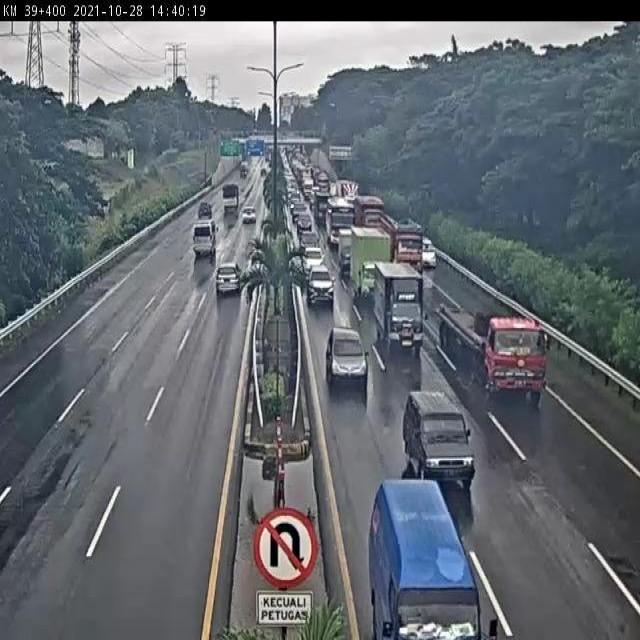bus-s-: (368, 477, 487, 640)
car: (401, 390, 479, 490), (325, 326, 369, 386), (214, 261, 242, 299), (307, 264, 333, 301), (301, 245, 322, 272)
small bus: (189, 223, 217, 261)
truck-l-: (385, 215, 424, 272)
truck-m-: (373, 259, 423, 349), (349, 226, 388, 306)
truck-s-: (336, 227, 354, 273)
truck-xl-: (439, 306, 548, 402)
